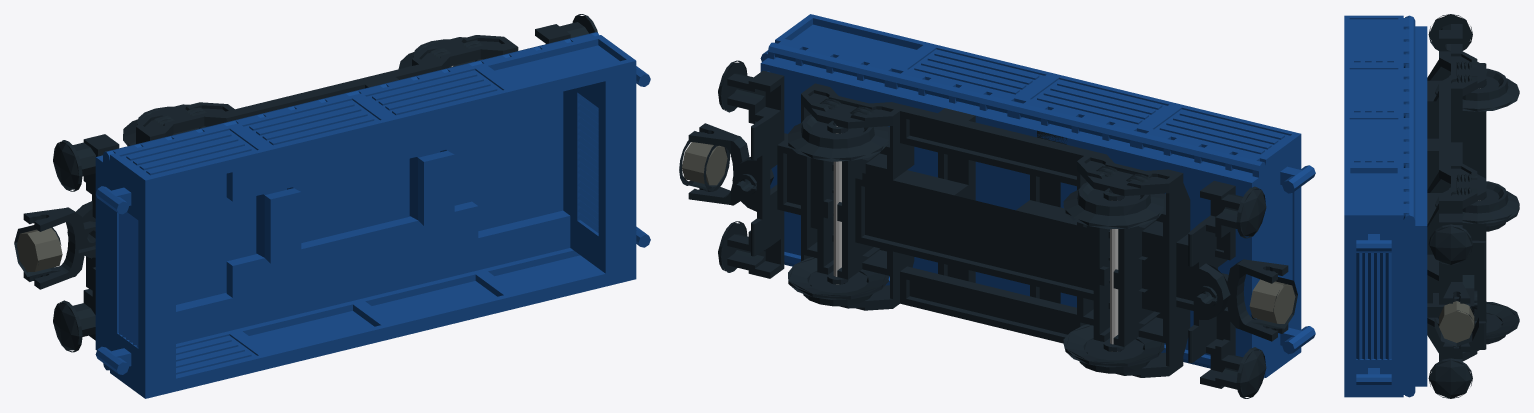
Rendered from wagon-2.glb.
3 views of the same model, side by side, from view 1: azimuth 30°, elevation 25°; view 2: azimuth 150°, elevation 25°; view 3: azimuth 270°, elevation 25° (orthographic). The views are drawn at different scales.
Size of the model in its own units: 154 by 54.38 by 47.4.
